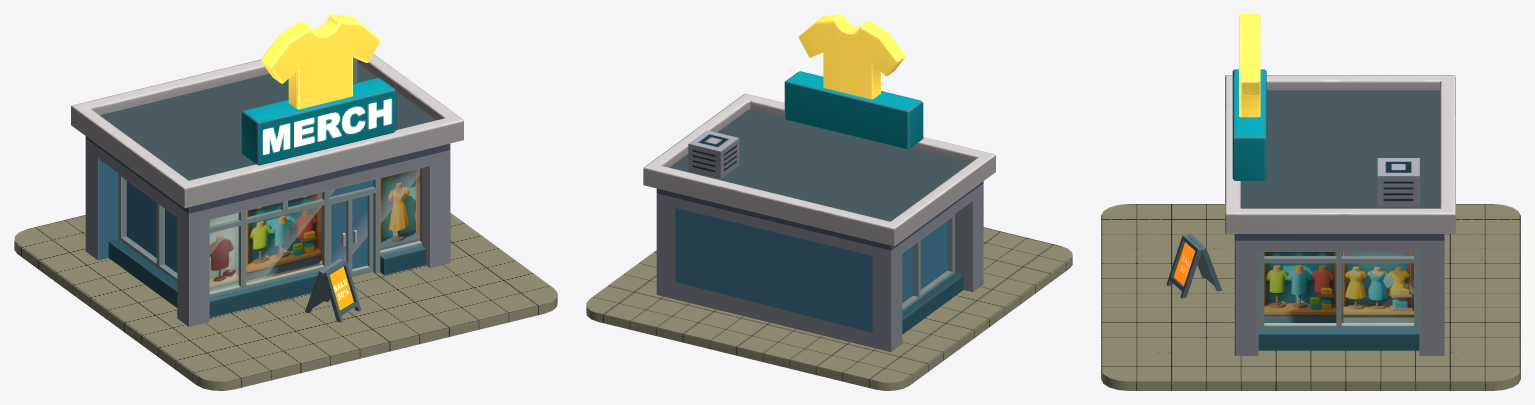
The model's file is Merch.fbx.
The picture shows the model from 3 angles, left to right: view 1: azimuth 30°, elevation 25°; view 2: azimuth 150°, elevation 25°; view 3: azimuth 270°, elevation 25°; orthographic projection. The views are drawn at different scales.
Parts seen in each view (by area): view 1: Merch; view 2: Merch; view 3: Merch.
Part boxes in pixels (x1=…): Merch: x1=14, y1=14, x2=557, y2=390; Merch: x1=586, y1=14, x2=1072, y2=390; Merch: x1=1101, y1=14, x2=1520, y2=390.
Bounding box in the file's own units: 3.99 × 2.95 × 3.99.
